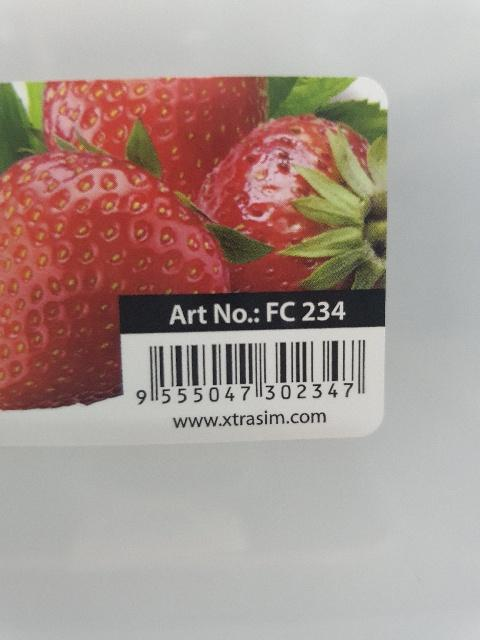Barcode: (129, 331, 381, 413)
